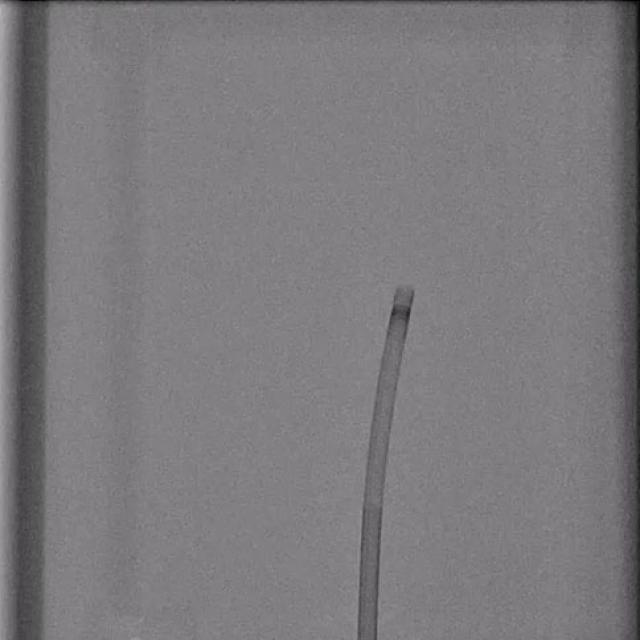bend: (363, 493, 382, 507)
entry: (358, 636, 378, 640)
marker: (390, 302, 412, 321)
tip: (398, 285, 416, 294)
